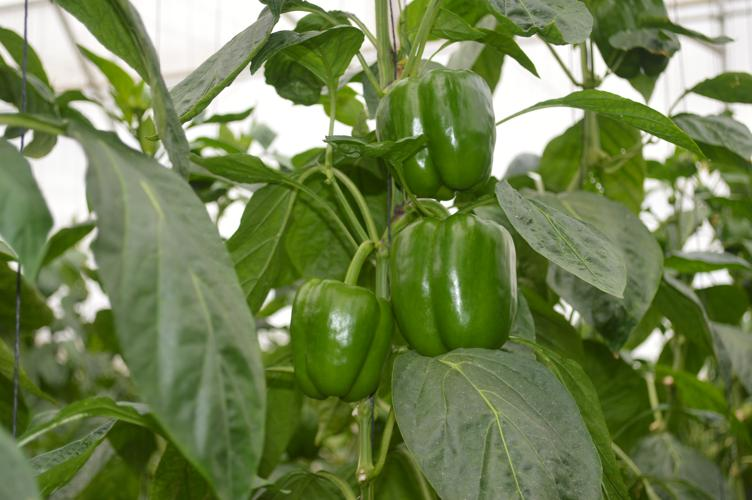BellPepper: (389, 215, 516, 350), (369, 63, 496, 189), (287, 279, 386, 398)
